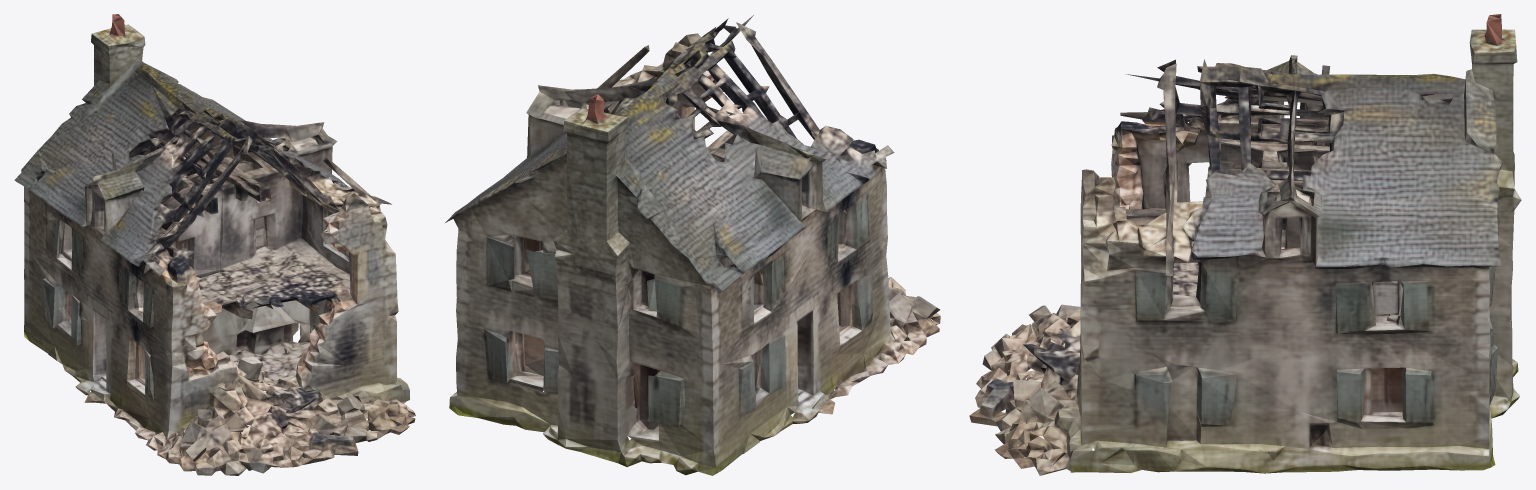
The model's file is house_ruin.obj.
3 views of the same model, side by side, from view 1: azimuth 30°, elevation 25°; view 2: azimuth 150°, elevation 25°; view 3: azimuth 270°, elevation 25° (orthographic). The views are drawn at different scales.
Visible parts, largest first — view 1: house_ruin; view 2: house_ruin; view 3: house_ruin.
Part boxes in pixels (x1=…): house_ruin: x1=14, y1=14, x2=415, y2=475; house_ruin: x1=445, y1=15, x2=940, y2=475; house_ruin: x1=969, y1=14, x2=1521, y2=475.
Size of the model in its own units: 7.74 by 8.48 by 11.
Materials: 1 (1 with a texture image).
